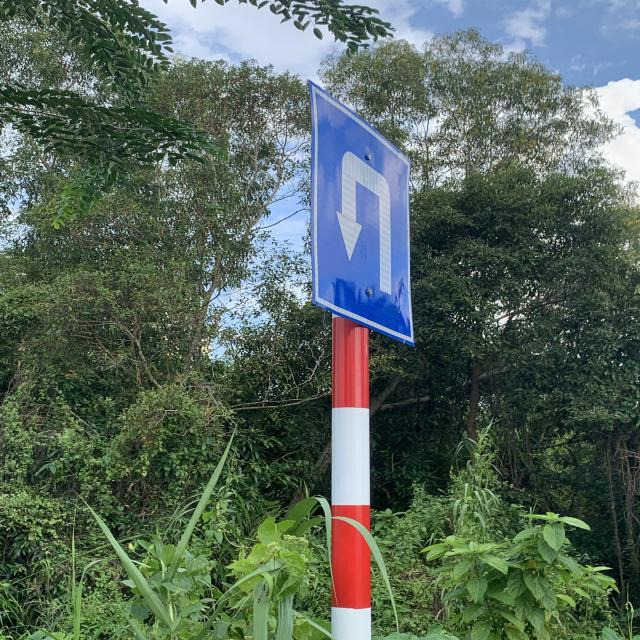Den_Giao_Thong: (311, 83, 414, 348)
